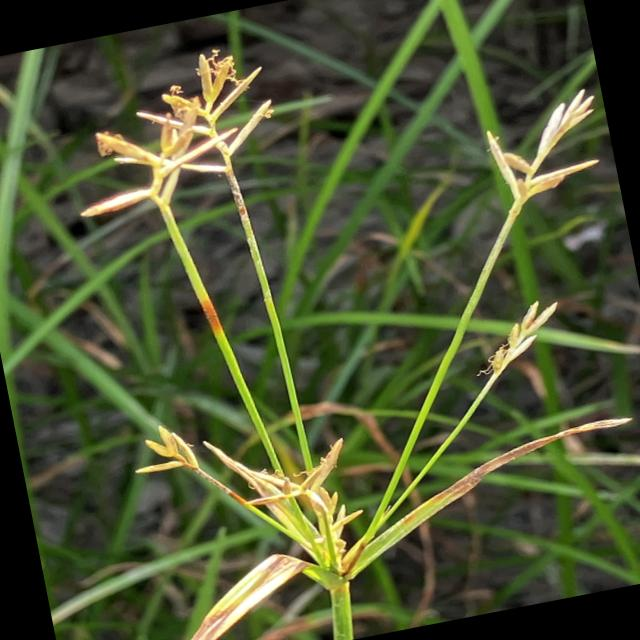cyperus: (61, 0, 640, 632), (126, 372, 454, 628), (426, 66, 640, 388), (52, 29, 330, 247)
